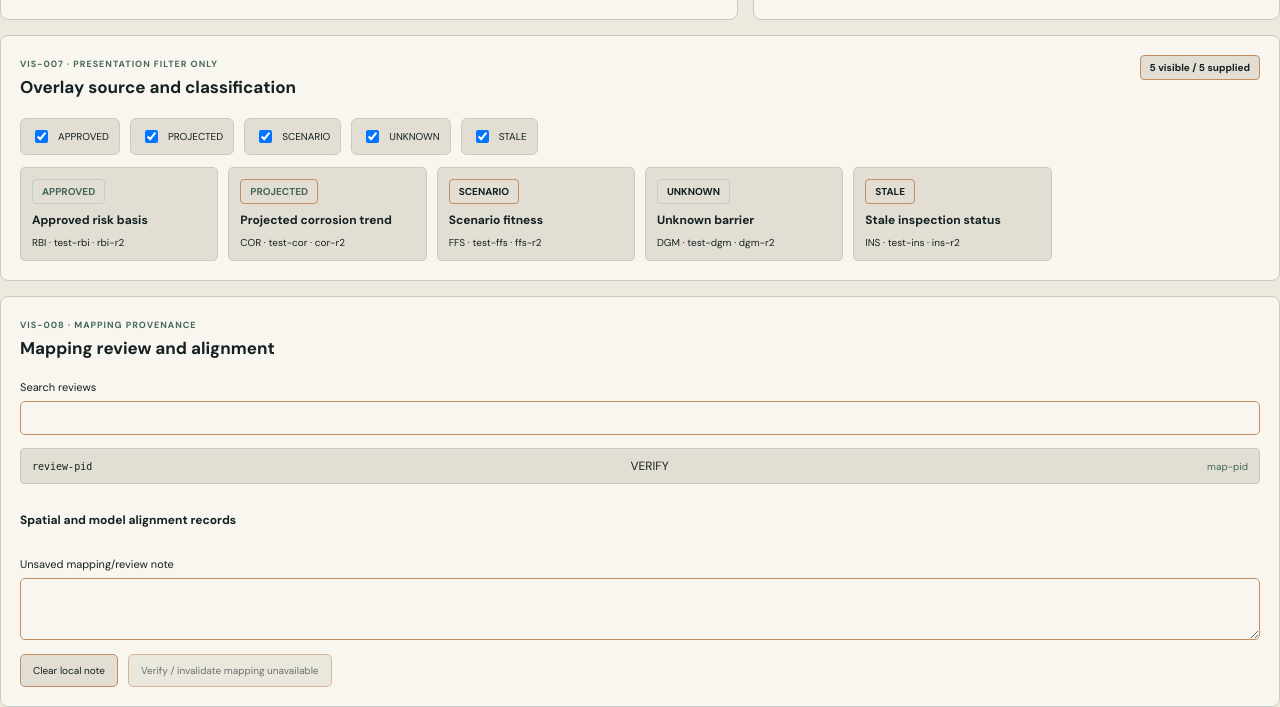
Test: VIS controlled overlay state filters and review history › clears unsaved note without changing any records
(page scrolled)
Type "Needs independent geometry review" into the text box labelled "Unsaved mapping/review note" at (640, 609), box [20,578,1260,640]
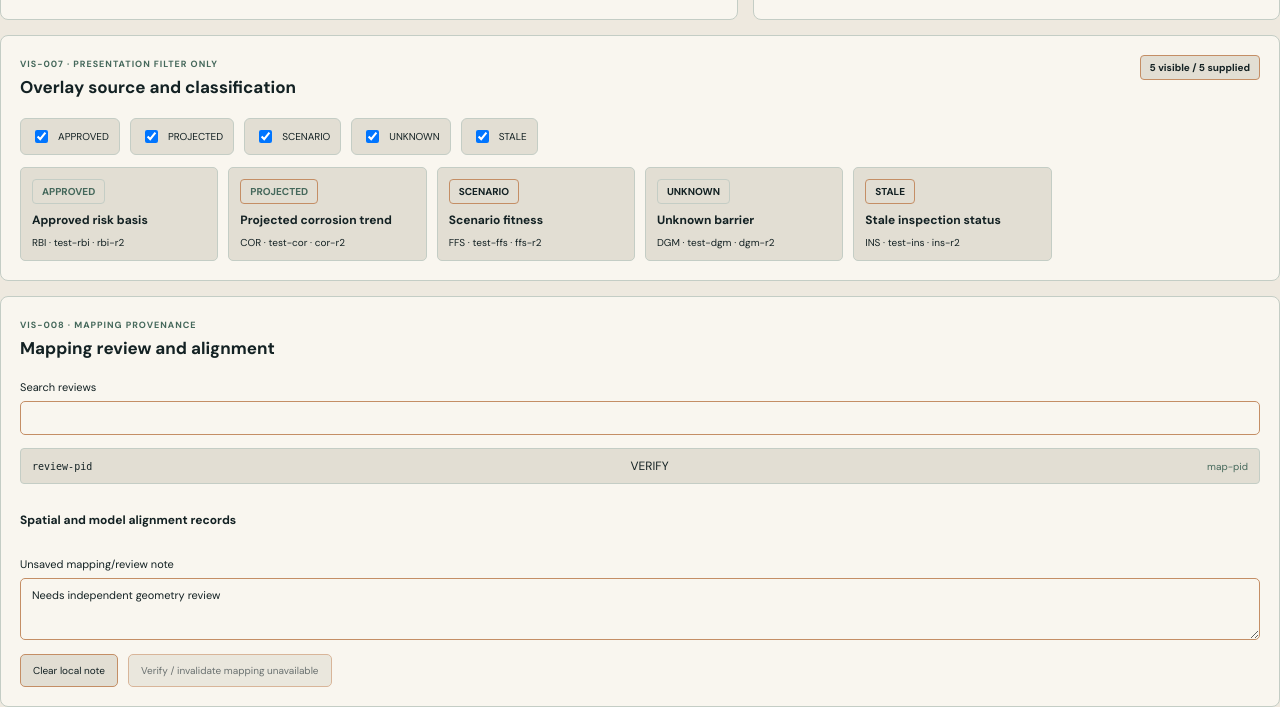
Click the button "Clear local note" at (69, 670), box [20,654,118,687]
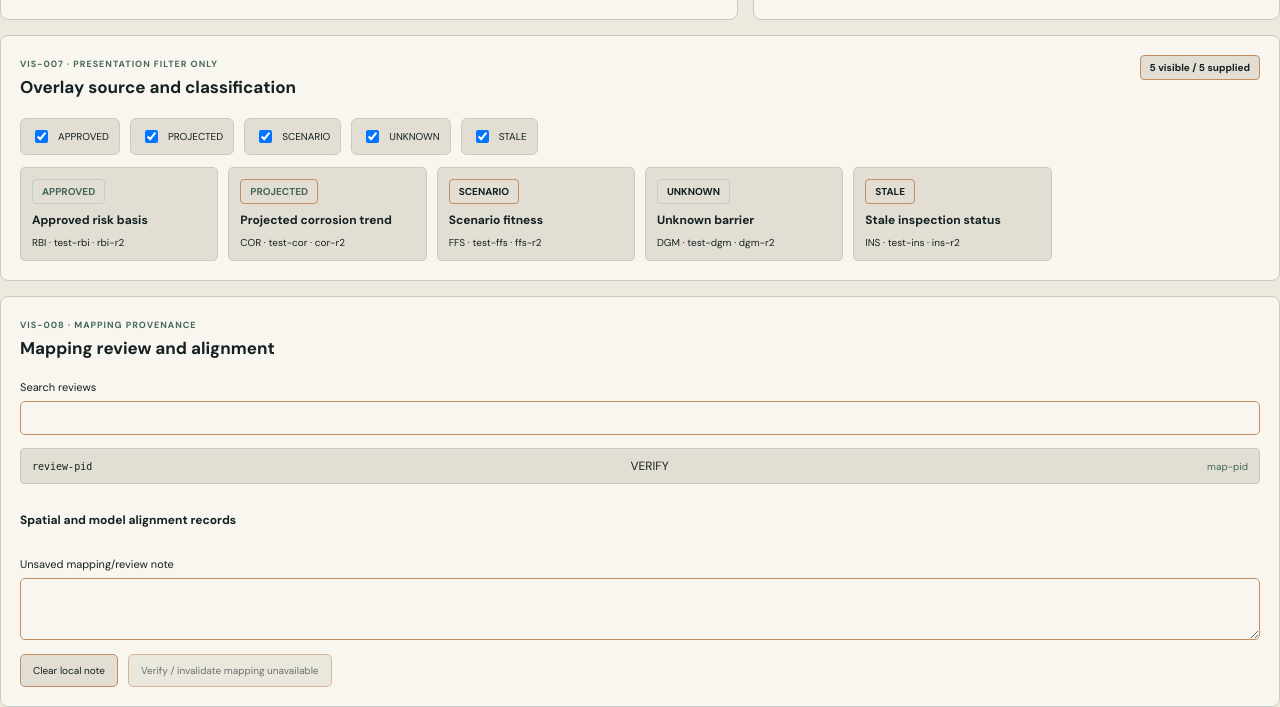
Result: the text box labelled "Unsaved mapping/review note" is empty at [20,578,1260,640]
